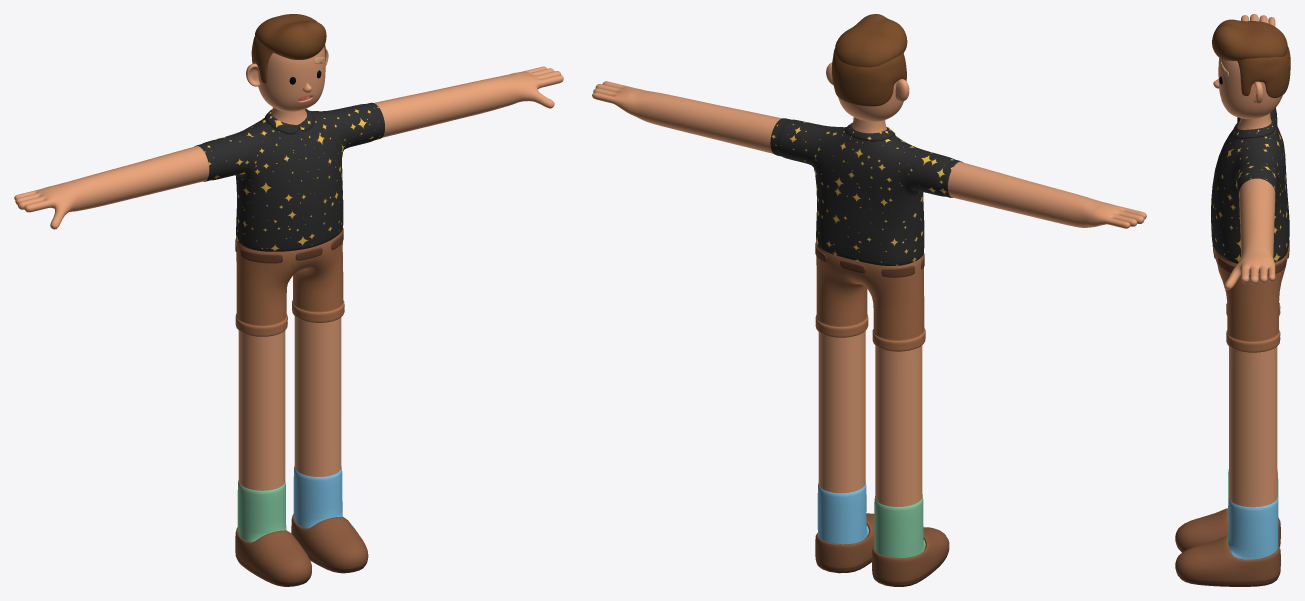
Rendered from BOY 4.fbx.
The picture shows the model from 3 angles, left to right: view 1: azimuth 30°, elevation 25°; view 2: azimuth 150°, elevation 25°; view 3: azimuth 270°, elevation 25°; orthographic projection.
Parts seen in each view (by area): view 1: BOY_BODY.004, BOY 4_SHIRT, BOY 4_SHORTS, BOY 4_SOCKS, BOY_4_SHOES.R, BOY 4_HAIR, BOY_4_SHOES.L, BOY 4_BELT; view 2: BOY_BODY.004, BOY 4_SHIRT, BOY 4_SHORTS, BOY 4_HAIR, BOY 4_SOCKS, BOY_4_SHOES.R, BOY_4_SHOES.L, BOY 4_BELT; view 3: BOY_BODY.004, BOY 4_SHIRT, BOY 4_HAIR, BOY 4_SHORTS, BOY_4_SHOES.L, BOY 4_SOCKS, BOY_4_SHOES.R, BOY 4_BELT.
Boxes of the visible parts, bbox=[...] form: BOY_BODY.004: bbox=[14, 47, 563, 490]; BOY 4_SHIRT: bbox=[194, 102, 384, 251]; BOY 4_SHORTS: bbox=[235, 230, 344, 336]; BOY 4_SOCKS: bbox=[237, 466, 342, 542]; BOY_4_SHOES.R: bbox=[235, 527, 311, 586]; BOY 4_HAIR: bbox=[251, 14, 326, 83]; BOY_4_SHOES.L: bbox=[291, 514, 368, 573]; BOY 4_BELT: bbox=[235, 228, 343, 263]; BOY_BODY.004: bbox=[592, 55, 1146, 506]; BOY 4_SHIRT: bbox=[770, 118, 962, 265]; BOY 4_SHORTS: bbox=[815, 244, 925, 351]; BOY 4_HAIR: bbox=[832, 14, 907, 106]; BOY 4_SOCKS: bbox=[817, 482, 925, 557]; BOY_4_SHOES.R: bbox=[872, 527, 949, 586]; BOY_4_SHOES.L: bbox=[815, 513, 874, 573]; BOY 4_BELT: bbox=[815, 242, 924, 277]; BOY_BODY.004: bbox=[1213, 14, 1282, 507]; BOY 4_SHIRT: bbox=[1211, 108, 1289, 263]; BOY 4_HAIR: bbox=[1212, 19, 1290, 98]; BOY 4_SHORTS: bbox=[1214, 248, 1288, 352]; BOY_4_SHOES.L: bbox=[1175, 535, 1280, 586]; BOY 4_SOCKS: bbox=[1228, 469, 1278, 559]; BOY_4_SHOES.R: bbox=[1175, 508, 1280, 552]; BOY 4_BELT: bbox=[1212, 240, 1289, 277].
Bounding box in the file's own units: 205 × 194 × 37.63.
12 materials, 8 textured.
